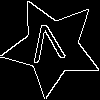V: (27, 22, 68, 73)
